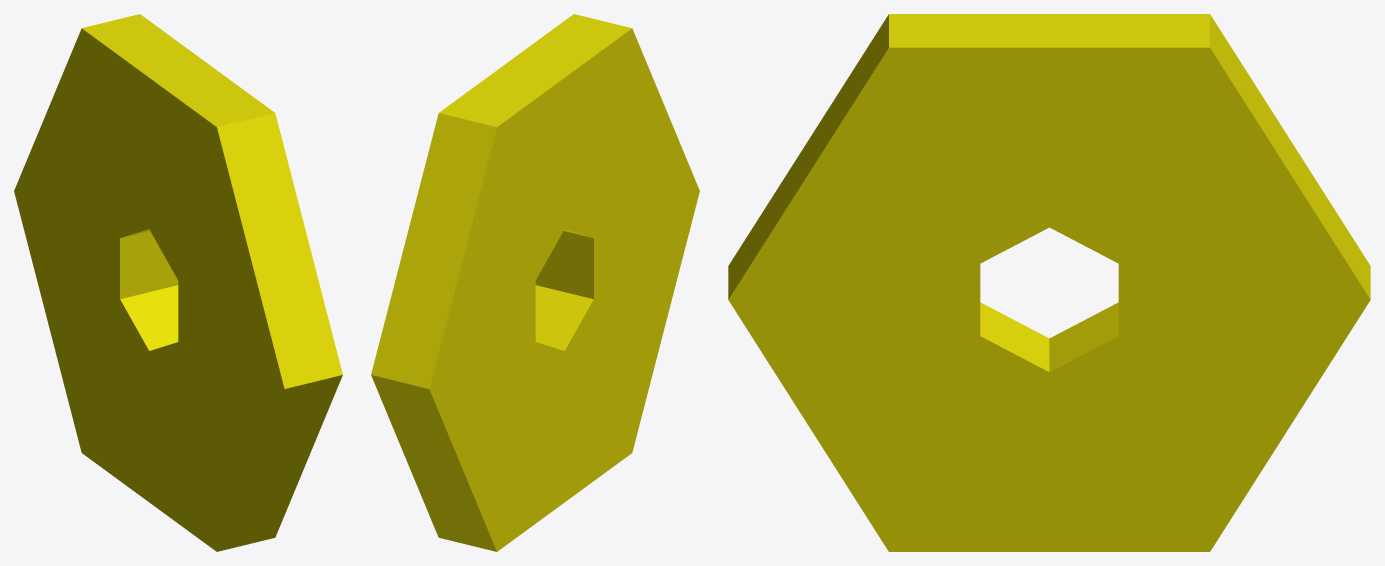
The model's file is Gold 2 Fbx.fbx.
3 views of the same model, side by side, from view 1: azimuth 30°, elevation 25°; view 2: azimuth 150°, elevation 25°; view 3: azimuth 270°, elevation 25° (orthographic). The views are drawn at different scales.
Visible parts, largest first — view 1: Cylinder; view 2: Cylinder; view 3: Cylinder.
Boxes of the visible parts, x1,y1,x2,y2 form: Cylinder: (14, 14, 342, 551); Cylinder: (371, 14, 699, 551); Cylinder: (728, 14, 1370, 551).
Size of the model in its own units: 24.92 by 173 by 200.
